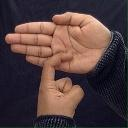hand: (4, 11, 111, 74), (36, 53, 85, 119)
